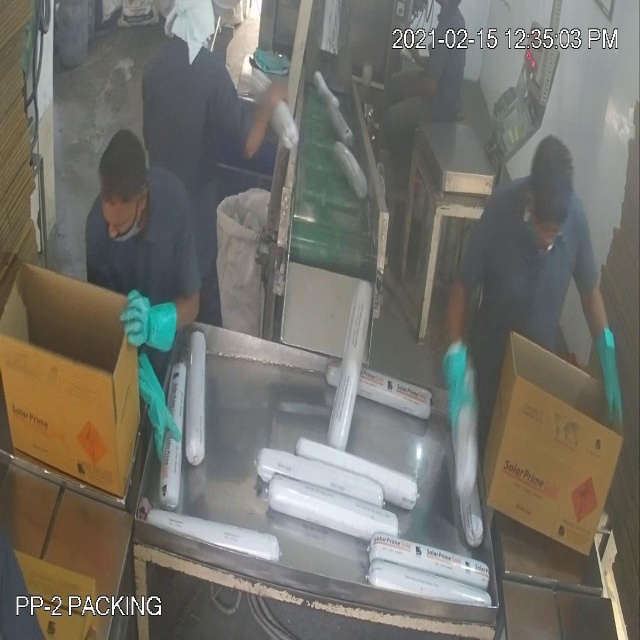Guantes: (433, 324, 483, 465), (127, 348, 183, 468), (583, 321, 632, 445), (114, 286, 182, 364)
Sin_guantes: (248, 68, 299, 159)
